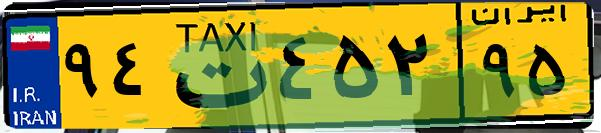2: (385, 28, 445, 110)
4: (270, 28, 330, 110), (110, 28, 158, 98)
5: (330, 28, 385, 110), (525, 38, 570, 115)
9: (57, 26, 110, 100), (475, 38, 525, 113)
ت: (158, 12, 270, 120)
